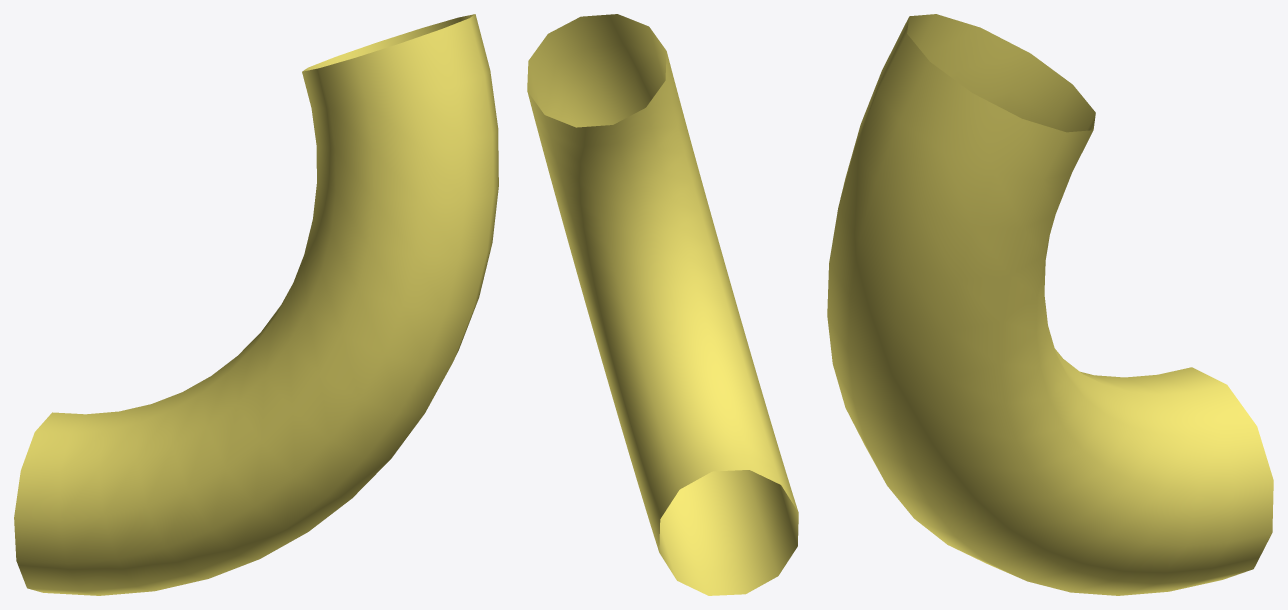
The picture shows the model from 3 angles, left to right: view 1: azimuth 30°, elevation 25°; view 2: azimuth 150°, elevation 25°; view 3: azimuth 270°, elevation 25°; orthographic projection. The views are drawn at different scales.
Parts seen in each view (by area): view 1: Torus.003; view 2: Torus.003; view 3: Torus.003.
Boxes of the visible parts, x1=… form: Torus.003: x1=14, y1=14, x2=498, y2=595; Torus.003: x1=527, y1=14, x2=798, y2=595; Torus.003: x1=827, y1=14, x2=1273, y2=595.
Bounding box in the file's own units: 0.544 × 0.7638 × 0.4472.
